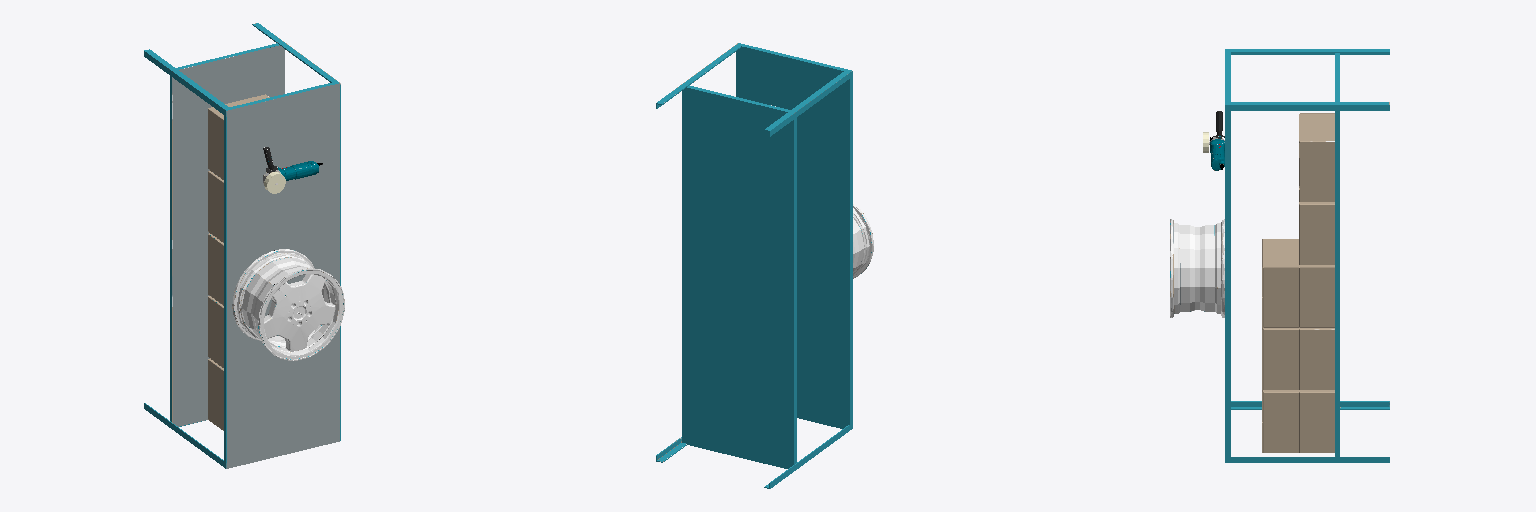
3 renders of one model, left to right at view 1: azimuth 30°, elevation 25°; view 2: azimuth 150°, elevation 25°; view 3: azimuth 270°, elevation 25°, orthographic.
Visible parts, largest first — view 1: Solid1; view 2: Solid1; view 3: Solid1.
Boxes of the visible parts, box(x1,y1,x2,y2) form: Solid1: box(144, 23, 344, 468); Solid1: box(656, 43, 873, 488); Solid1: box(1170, 49, 1389, 462).
Size of the model in its own units: 0.6096 by 1.83 by 1.02.
1 materials, 1 textured.